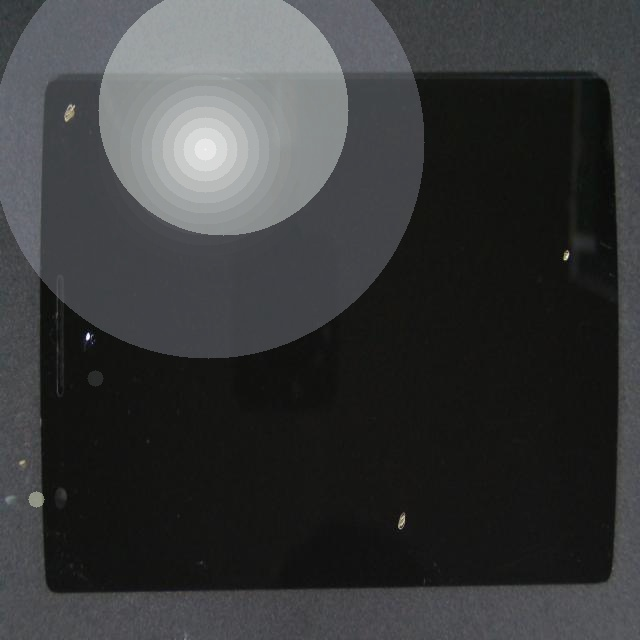stain: (206, 219, 594, 640), (265, 143, 640, 414), (54, 139, 126, 485)
